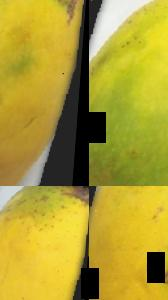PartiallyRipe: (89, 0, 168, 186)
Ripe: (0, 0, 89, 186), (0, 186, 89, 300), (89, 186, 168, 300)
